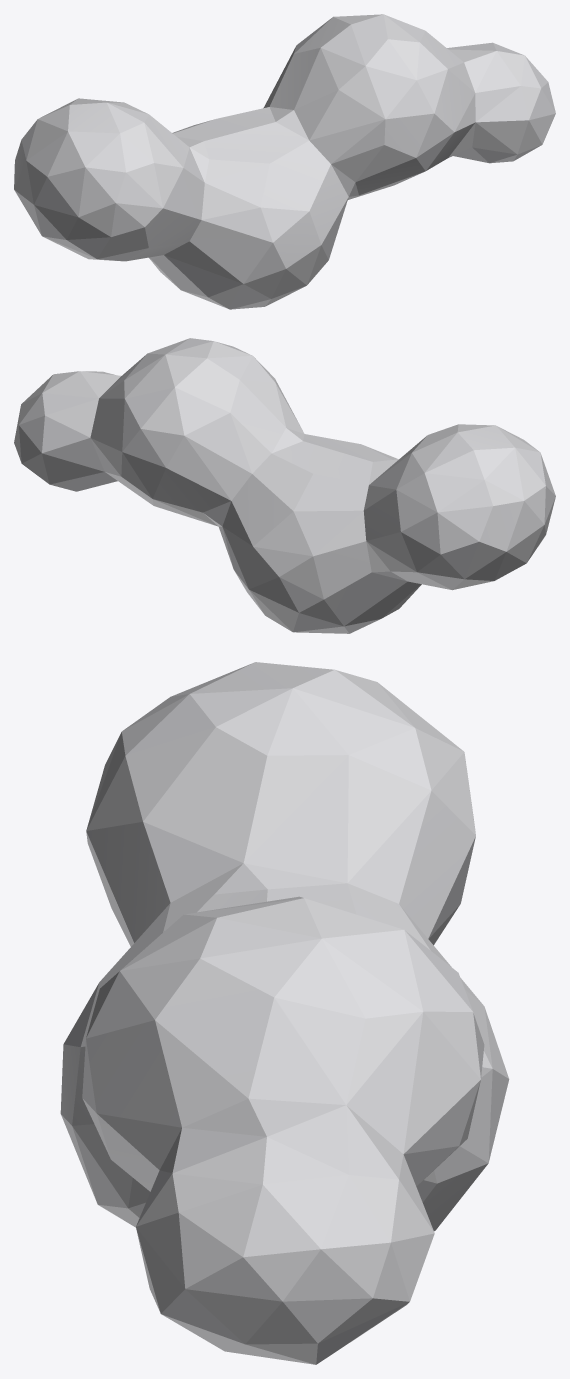
File: small_cloud_14.fbx
3 renders of one model, top to bottom at view 1: azimuth 30°, elevation 25°; view 2: azimuth 150°, elevation 25°; view 3: azimuth 270°, elevation 25°, orthographic. The views are drawn at different scales.
Parts seen in each view (by area): view 1: cloud_14; view 2: cloud_14; view 3: cloud_14.
Part boxes in pixels (x1,y1,x2,y2): cloud_14: (14,14,555,309); cloud_14: (14,338,555,633); cloud_14: (60,662,509,1364).
Bounding box in the file's own units: 519 × 230 × 196.
